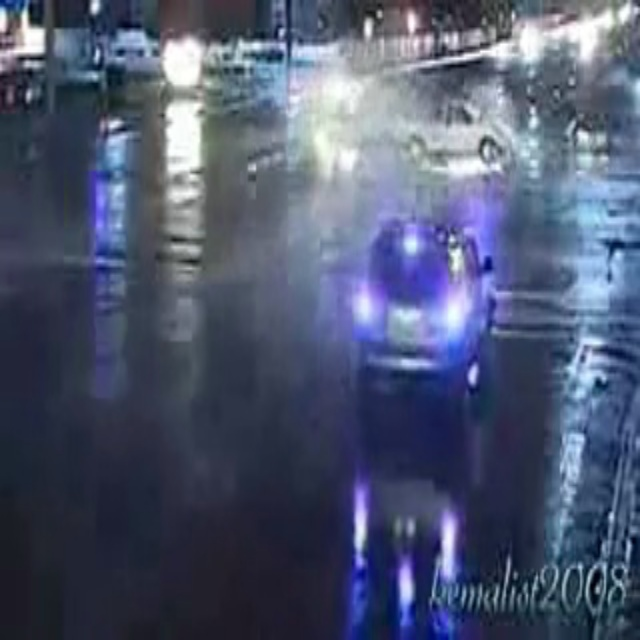acc: (304, 67, 516, 179)
